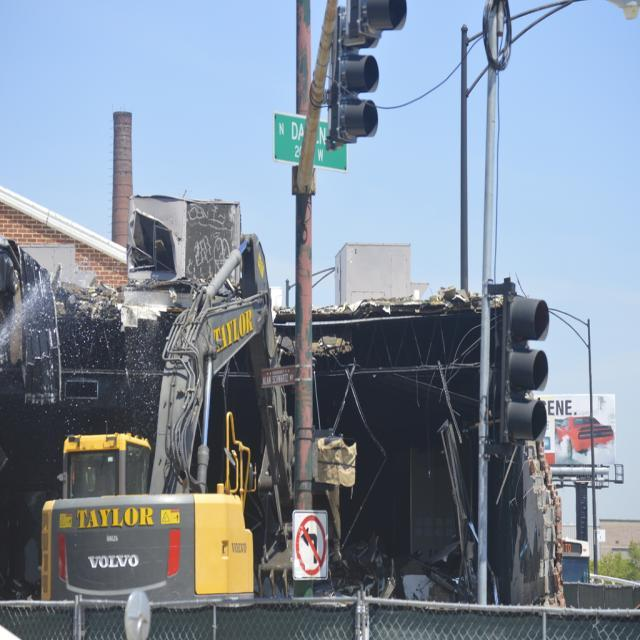off traffic light: (489, 273, 553, 452), (325, 5, 378, 150)
road_sign: (293, 510, 328, 580)
